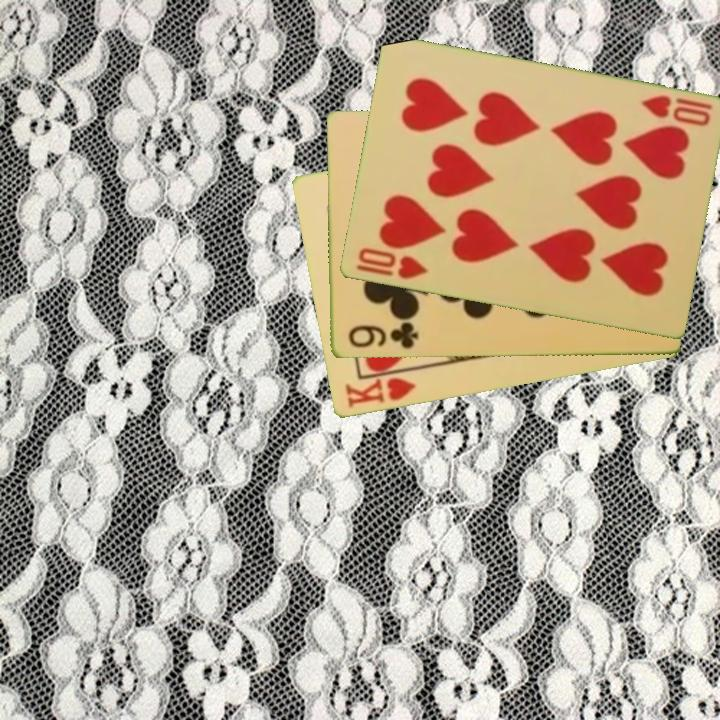10h: (352, 244, 431, 283), (637, 92, 715, 130)
9c: (345, 319, 421, 353)
Kh: (341, 366, 421, 411)
